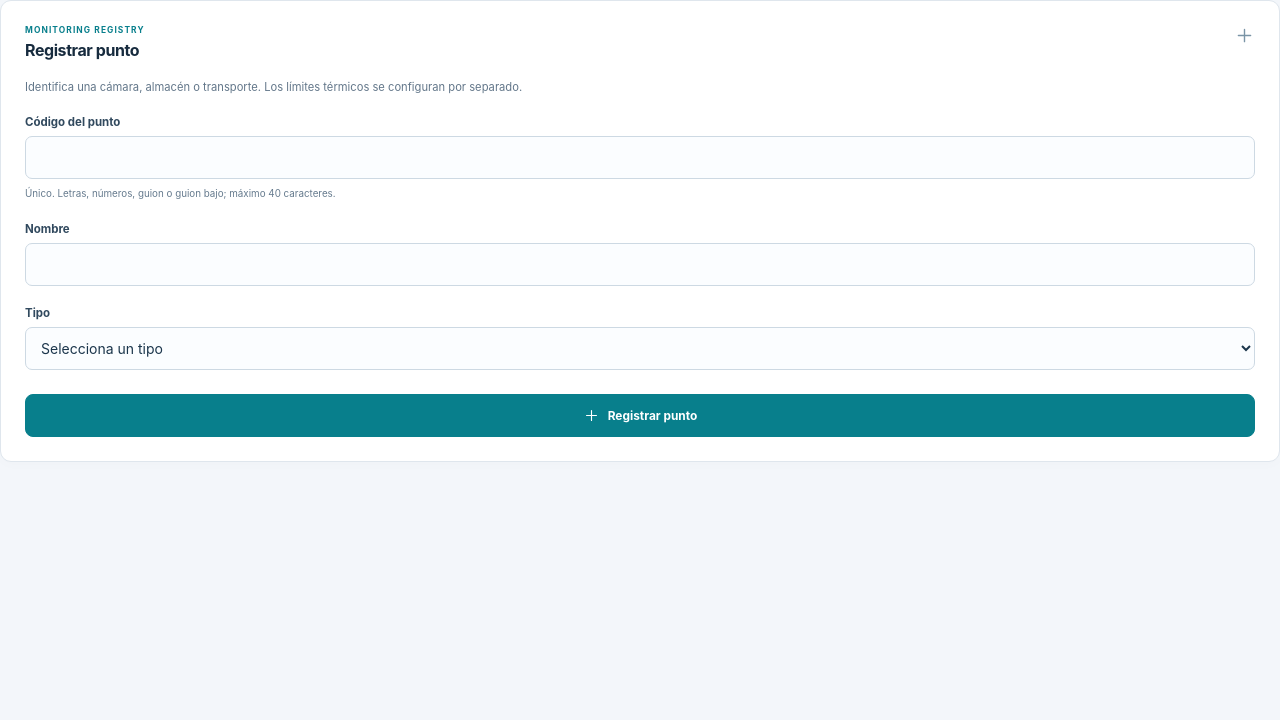
Test case: registro de puntos › envía el modelo real y confirma el registro
The width and height of the screenshot is (1280, 720).
Step 1. Type "cam-01" into the field labelled "Código del punto" → [640, 158], box [25,136,1255,180]
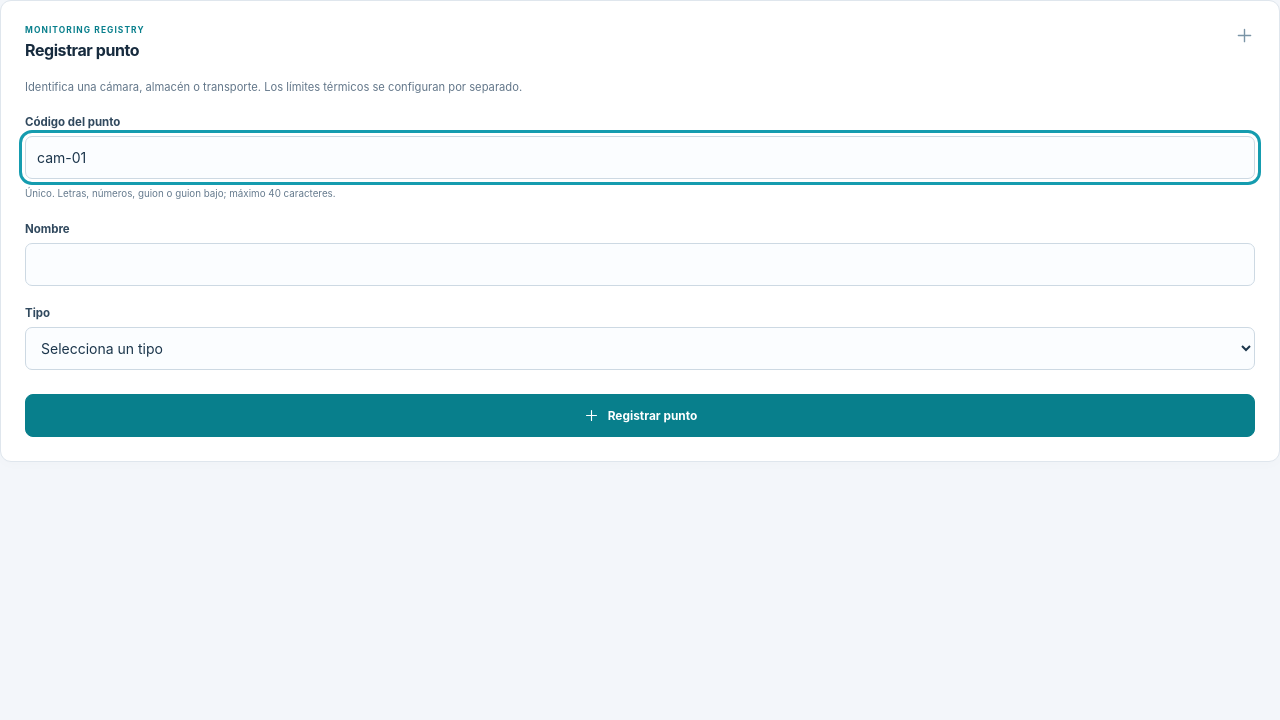
Step 2. Type "Cámara de pruebas" into the field labelled "Nombre" → [640, 265], box [25,243,1255,286]
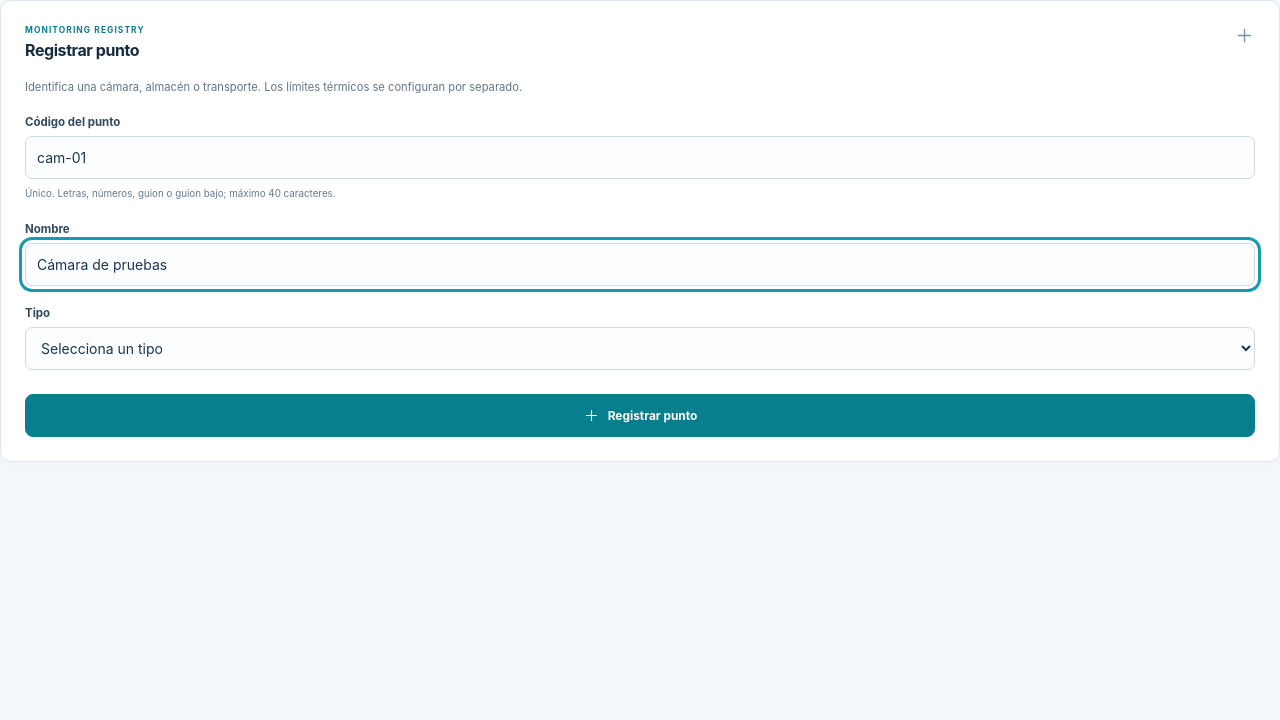
Step 3. Select "Almacenamiento" in the dropdown labelled "Tipo" → [640, 349], box [25,327,1255,370]
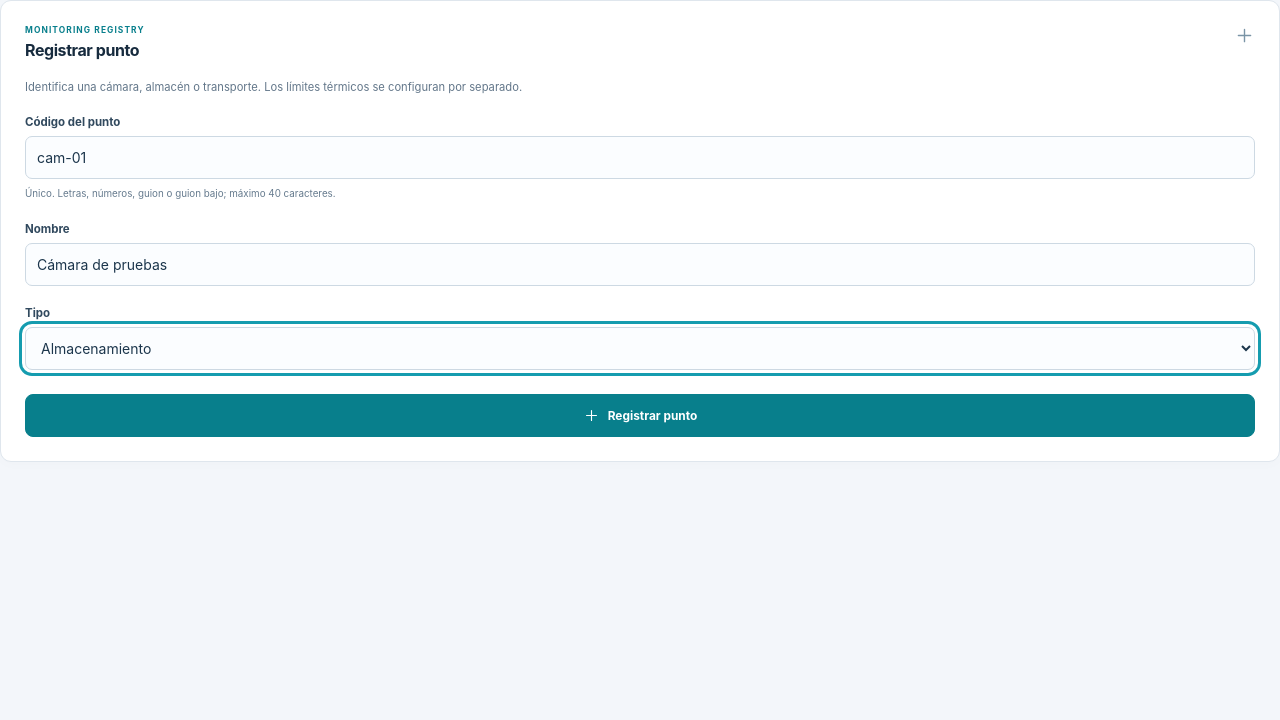
Step 4. Click the button "Registrar punto" → [640, 416], box [25,394,1255,437]
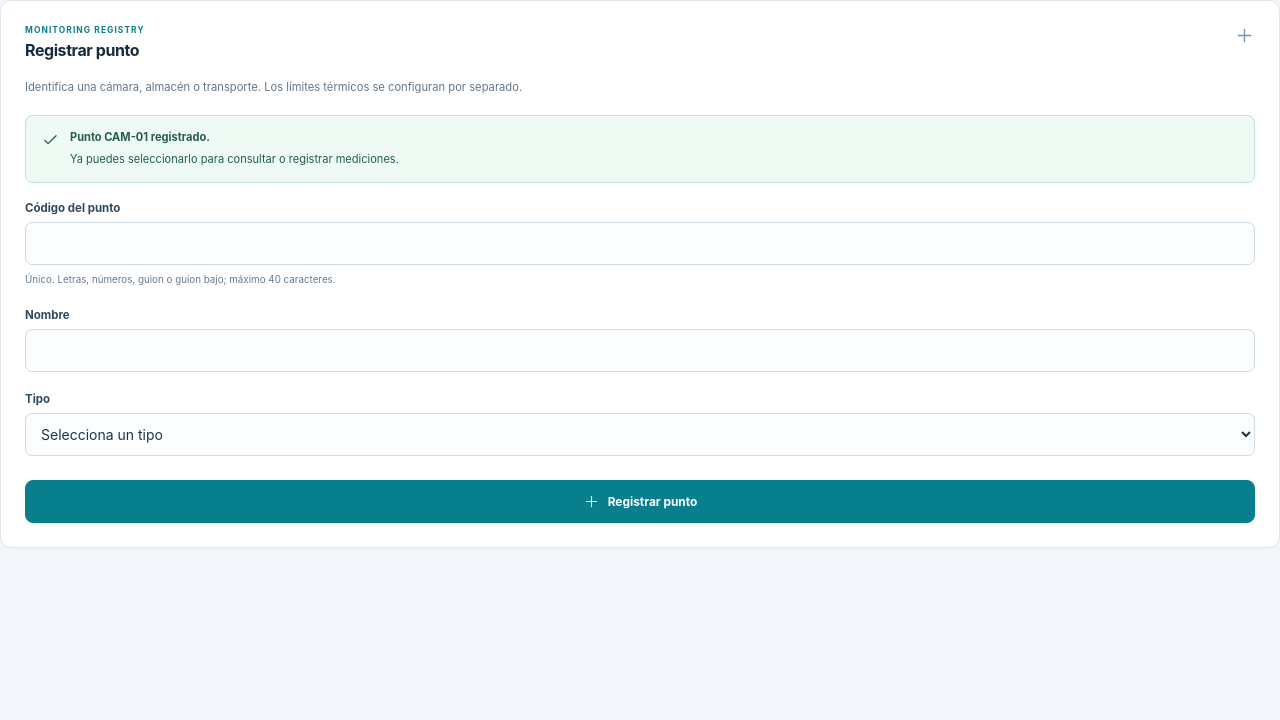
Result: the text "Punto CAM-01 registrado." is shown at [70,130,210,144]
Result: the field labelled "Código del punto" is empty at [25,222,1255,265]
